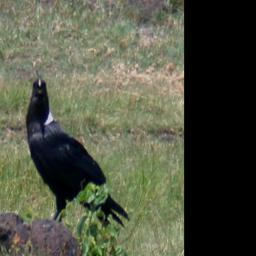Crow: (25, 75, 132, 233)
